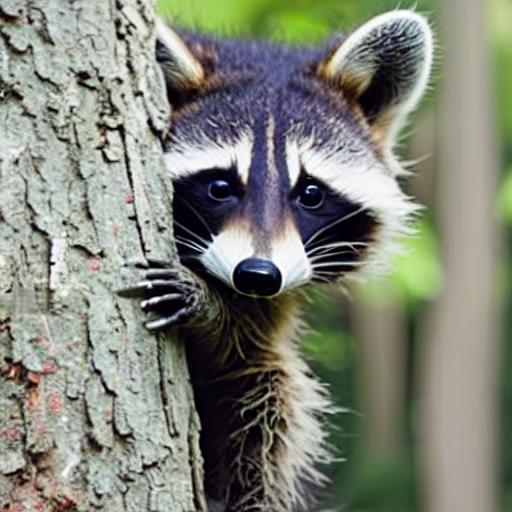raccoon: (156, 0, 466, 512)
